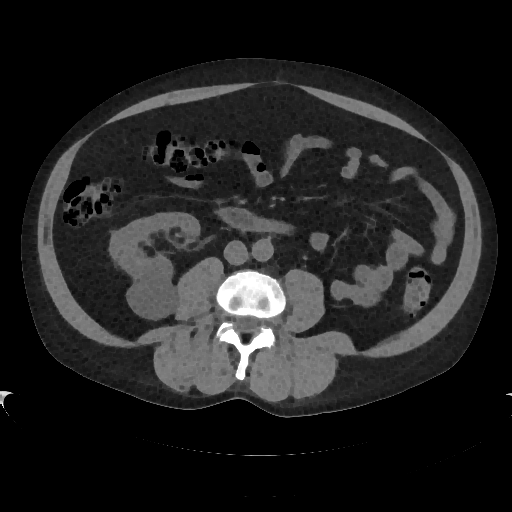Lesion: (128, 274, 180, 321)
